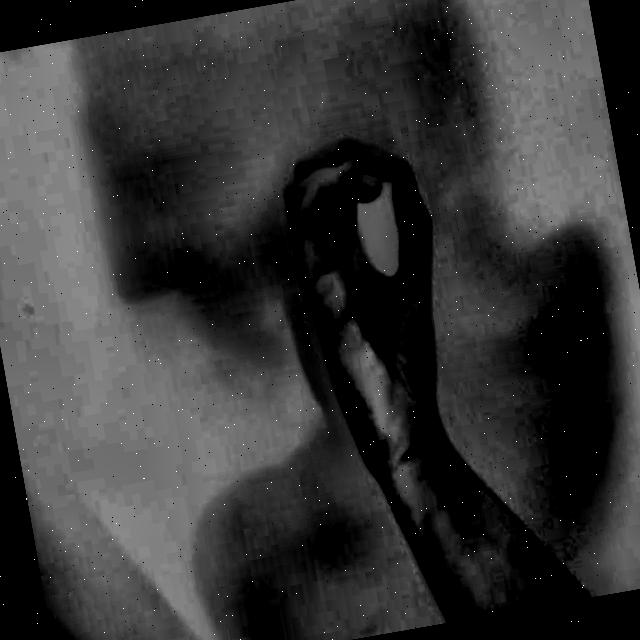O: (242, 102, 508, 506)
